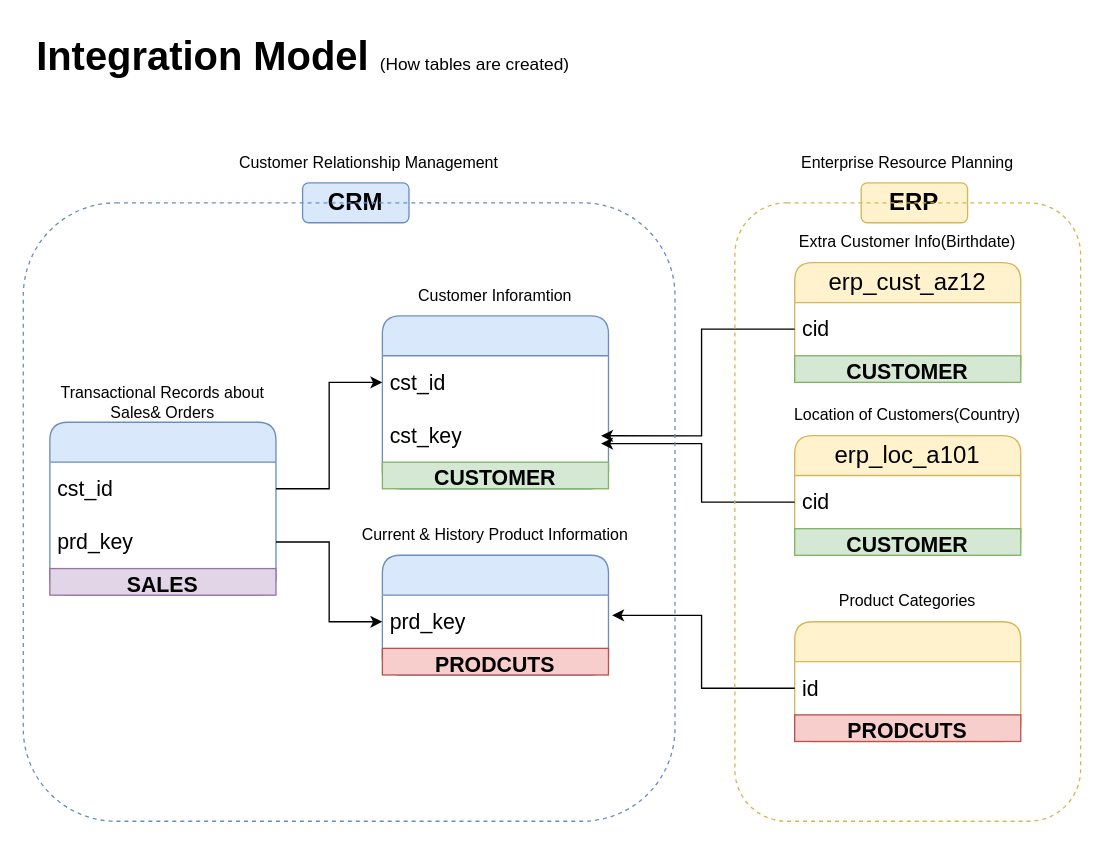
Image size: 1104x845. Some labels were removed from this diagram. Here are the shapes that lost their labels. From the top down, the box of each, then its label:
(381, 315, 608, 489): crm_cust_info
(49, 421, 276, 595): crm_sales_details
(381, 554, 608, 675): crm_prd_info
(793, 620, 1021, 741): erp_px_cat_g1v2
